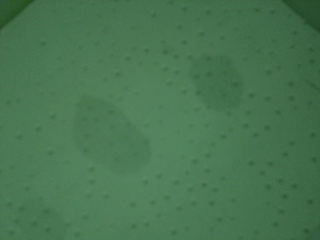Water_detected: (82, 110, 143, 171), (185, 59, 224, 98), (34, 200, 61, 226)
